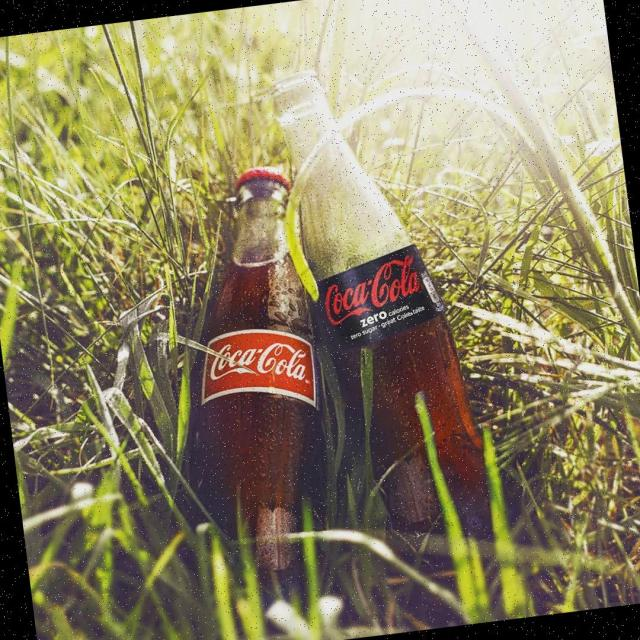coca-cola: (262, 53, 501, 540), (154, 160, 343, 586)
